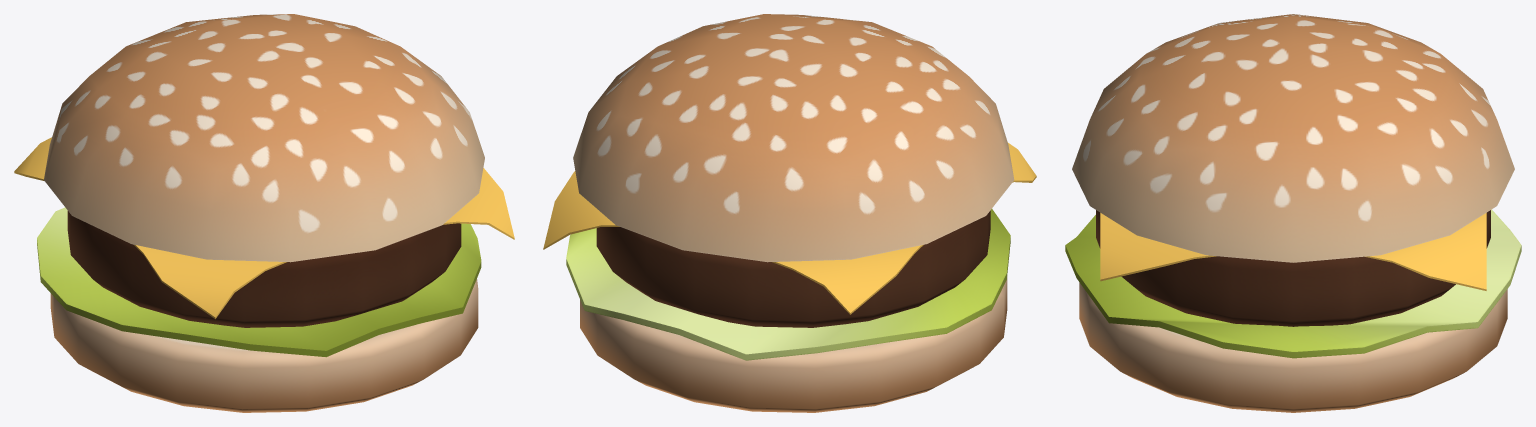
Rendered from burger.glb.
3 renders of one model, left to right at view 1: azimuth 30°, elevation 25°; view 2: azimuth 150°, elevation 25°; view 3: azimuth 270°, elevation 25°, orthographic.
Parts seen in each view (by area): view 1: Bap_Top, Bap_Bottom, Cooked_Burger, Lettuce, Melted_Cheese; view 2: Bap_Top, Bap_Bottom, Cooked_Burger, Lettuce, Melted_Cheese; view 3: Bap_Top, Bap_Bottom, Cooked_Burger, Lettuce, Melted_Cheese.
Part boxes in pixels (x1,y1,x2,y2): Bap_Top: [44, 14, 484, 262]; Bap_Bottom: [50, 279, 478, 412]; Cooked_Burger: [67, 211, 461, 327]; Lettuce: [37, 207, 481, 357]; Melted_Cheese: [14, 137, 514, 318]; Bap_Top: [573, 14, 1014, 262]; Bap_Bottom: [580, 276, 1007, 412]; Cooked_Burger: [596, 210, 990, 327]; Lettuce: [566, 209, 1010, 360]; Melted_Cheese: [543, 142, 1036, 314]; Bap_Top: [1072, 14, 1514, 262]; Bap_Bottom: [1079, 282, 1507, 412]; Cooked_Burger: [1096, 210, 1490, 326]; Lettuce: [1065, 209, 1521, 358]; Melted_Cheese: [1100, 213, 1486, 290].
Bounding box in the file's own units: 1.01 × 0.698 × 1.01.
Materials: 1 (1 with a texture image).
